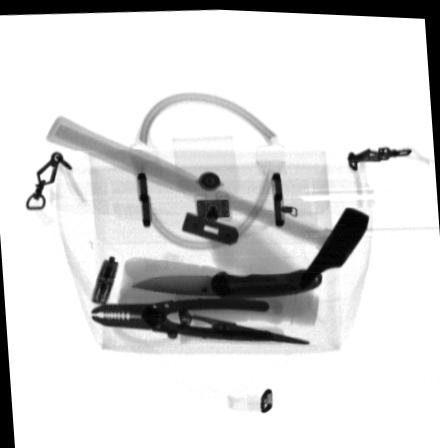Hammer: (46, 113, 370, 283)
Knife: (130, 264, 326, 295)
Pliers: (91, 296, 285, 340)
Scissors: (112, 286, 309, 344)
